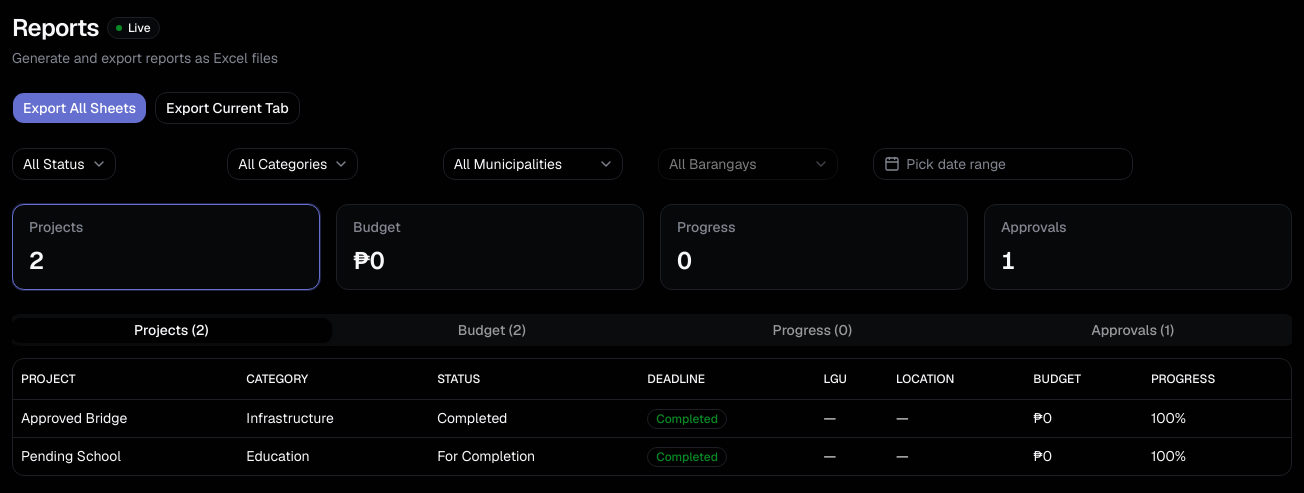
Test: ReportsModule (V12) › should show Approved By as the approving admin name and Pending when unapproved
Click the tab "Approvals (1)" at (1132, 330), box x1=972 y1=318 x2=1292 y2=342
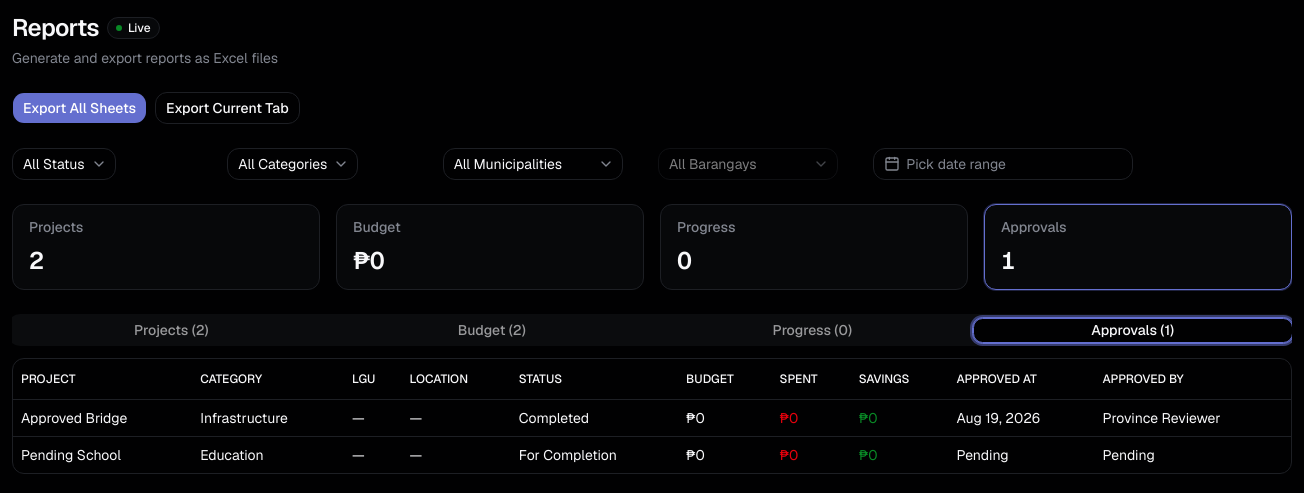
Expected: the text "Approved Bridge" is shown, x1=13 y1=399 x2=192 y2=436
Expected: the text "Province Reviewer" is shown, x1=1094 y1=399 x2=1291 y2=436
Expected: the 1st text "Pending" is shown, x1=948 y1=436 x2=1094 y2=472
